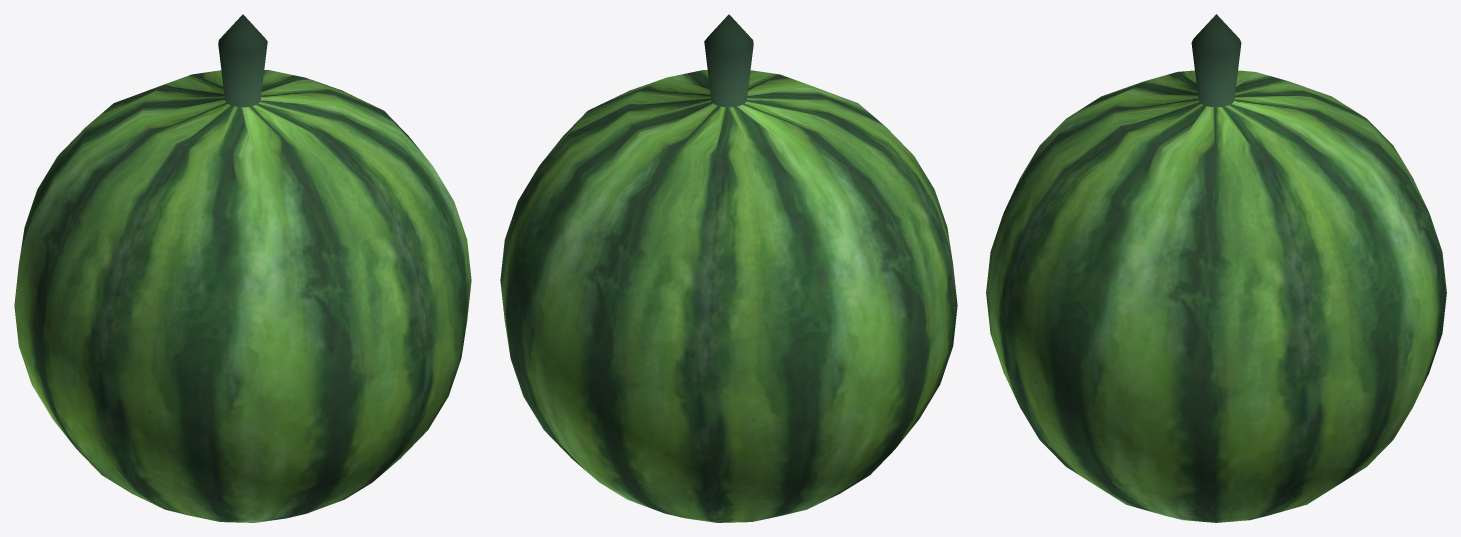
Rendered from Food.fbx.
3 views of the same model, side by side, from view 1: azimuth 30°, elevation 25°; view 2: azimuth 150°, elevation 25°; view 3: azimuth 270°, elevation 25° (orthographic).
Parts seen in each view (by area): view 1: Food; view 2: Food; view 3: Food.
Boxes of the visible parts, <box> form: Food: <box>14,14,471,522</box>; Food: <box>500,14,957,522</box>; Food: <box>986,14,1446,522</box>.
Size of the model in its own units: 0.3 by 0.3502 by 0.3.
